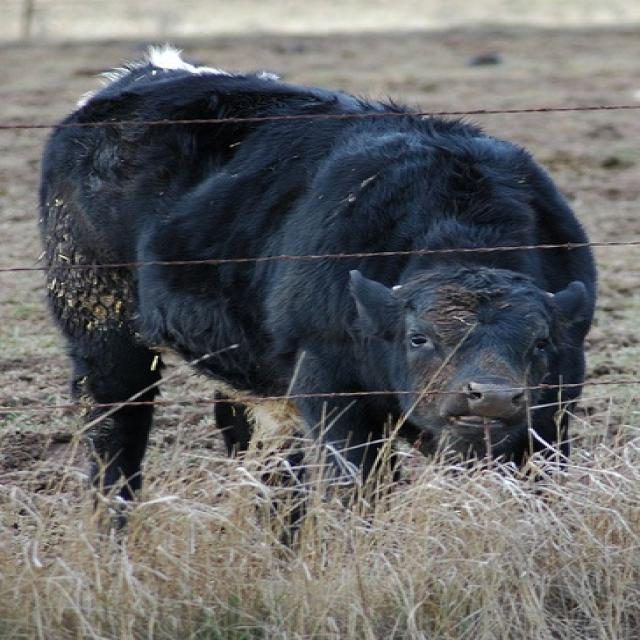cow: (35, 45, 605, 534)
